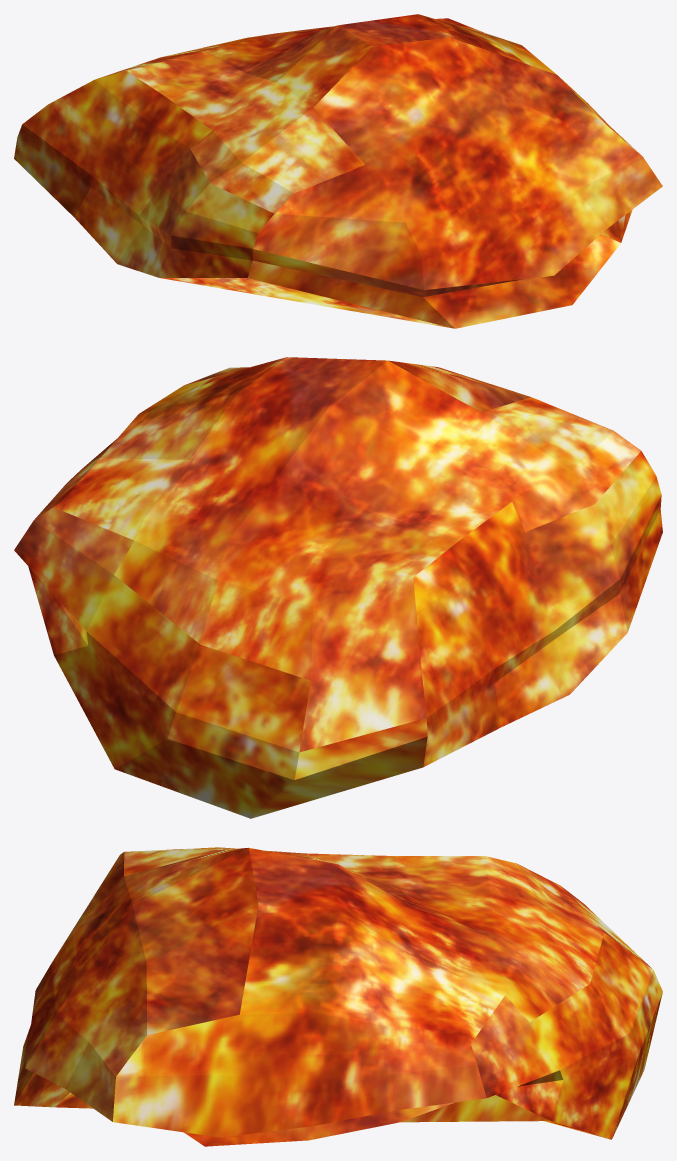
Rendered from lava-hill.glb.
The picture shows the model from 3 angles, top to bottom: view 1: azimuth 30°, elevation 25°; view 2: azimuth 150°, elevation 25°; view 3: azimuth 270°, elevation 25°; orthographic projection. The views are drawn at different scales.
Visible parts, largest first — view 1: Cube; view 2: Cube; view 3: Cube.
Part boxes in pixels (x1=…): Cube: x1=14, y1=14, x2=662, y2=328; Cube: x1=14, y1=357, x2=662, y2=818; Cube: x1=14, y1=847, x2=662, y2=1146.
Bounding box in the file's own units: 19.22 × 9.93 × 22.61.
Materials: 1 (1 with a texture image).
